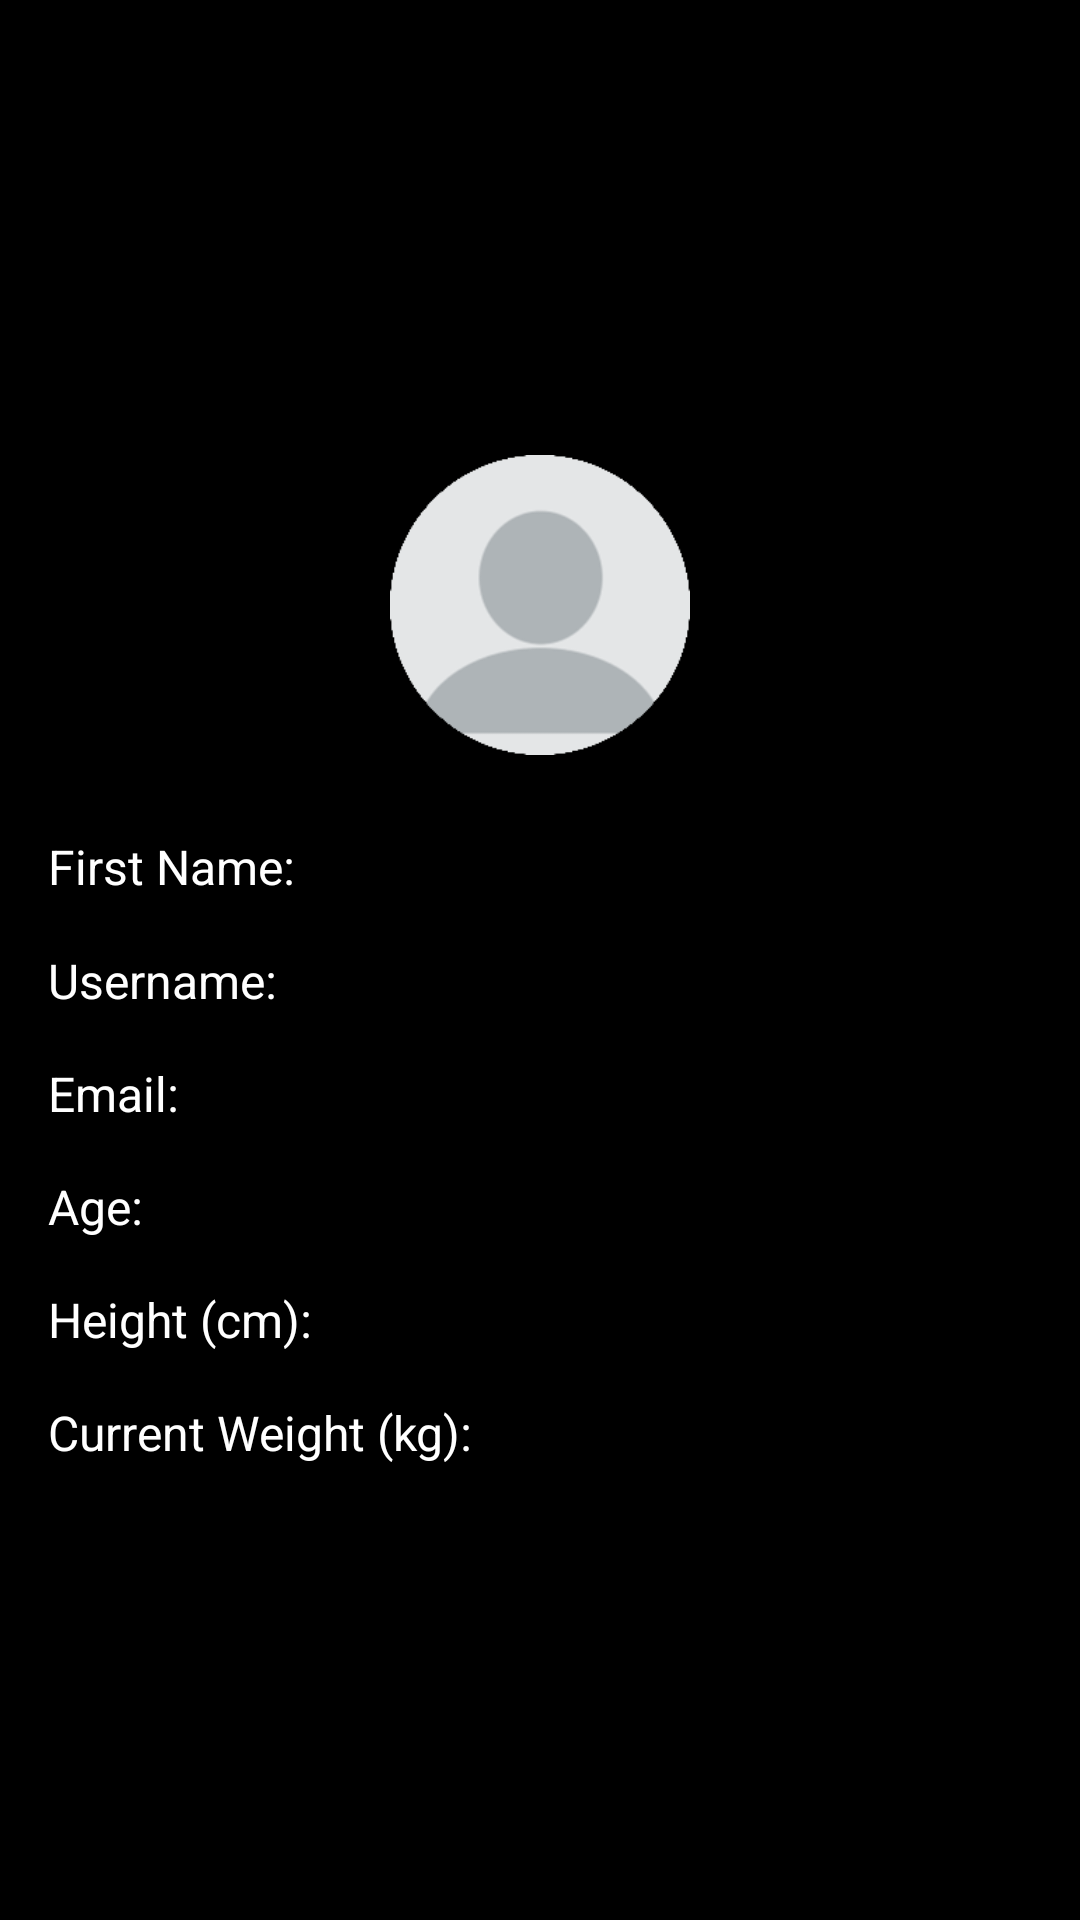

Icons on this 1080w x 1920h Android screen, each with its box as {"x1": x1, "y1": y1, "x2": x2, "y2": y2}:
profile: {"x1": 390, "y1": 455, "x2": 690, "y2": 755}
